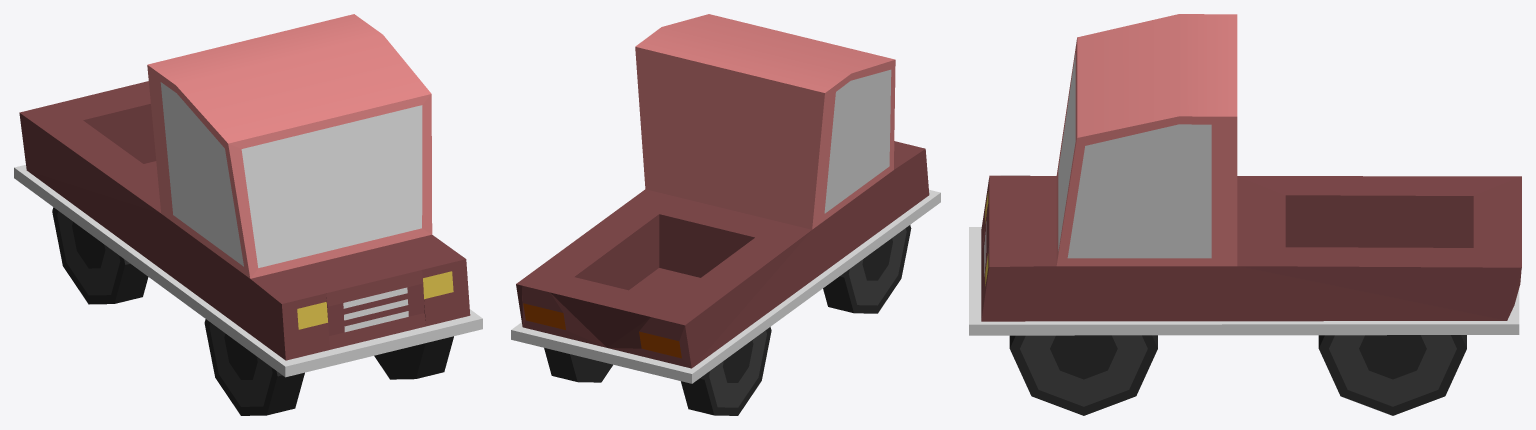
Rendered from C_Car_02.fbx.
3 renders of one model, left to right at view 1: azimuth 30°, elevation 25°; view 2: azimuth 150°, elevation 25°; view 3: azimuth 270°, elevation 25°, orthographic. The views are drawn at different scales.
Parts seen in each view (by area): view 1: Car_02, wheel_2_4, wheel_2_3, wheel_2_1; view 2: Car_02, wheel_2_3, wheel_2_4, wheel_2_2; view 3: Car_02, wheel_2_2, wheel_2_1.
Part boxes in pixels (box(x1,y1,x2,y2)): Car_02: box(14, 14, 482, 377); wheel_2_4: box(204, 319, 304, 415); wheel_2_3: box(52, 207, 148, 304); wheel_2_1: box(374, 336, 453, 379); Car_02: box(511, 14, 940, 383); wheel_2_3: box(681, 327, 771, 415); wheel_2_4: box(823, 225, 911, 313); wheel_2_2: box(544, 348, 612, 382); Car_02: box(969, 14, 1521, 335); wheel_2_2: box(1318, 335, 1466, 415); wheel_2_1: box(1009, 335, 1157, 415).
Bounding box in the file's own units: 20.14 × 27.95 × 45.89.
